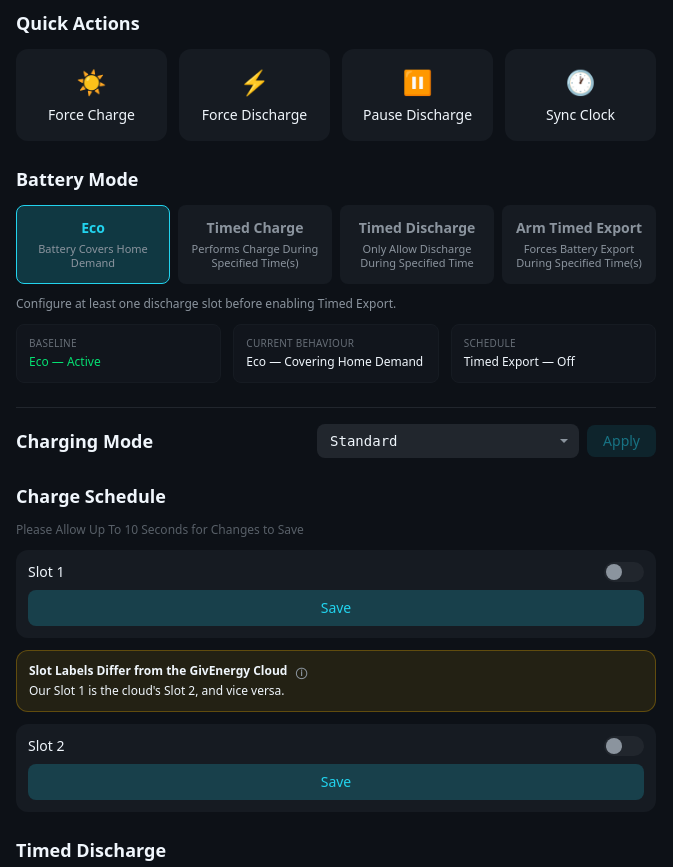
<ControlPage/> — battery mode toggles › shows the error and frees the Eco button when the request is rejected
This screenshot has width=673, height=867.
Click the button "Eco Battery Covers Home Demand": [93, 244] box x1=16 y1=204 x2=170 y2=284
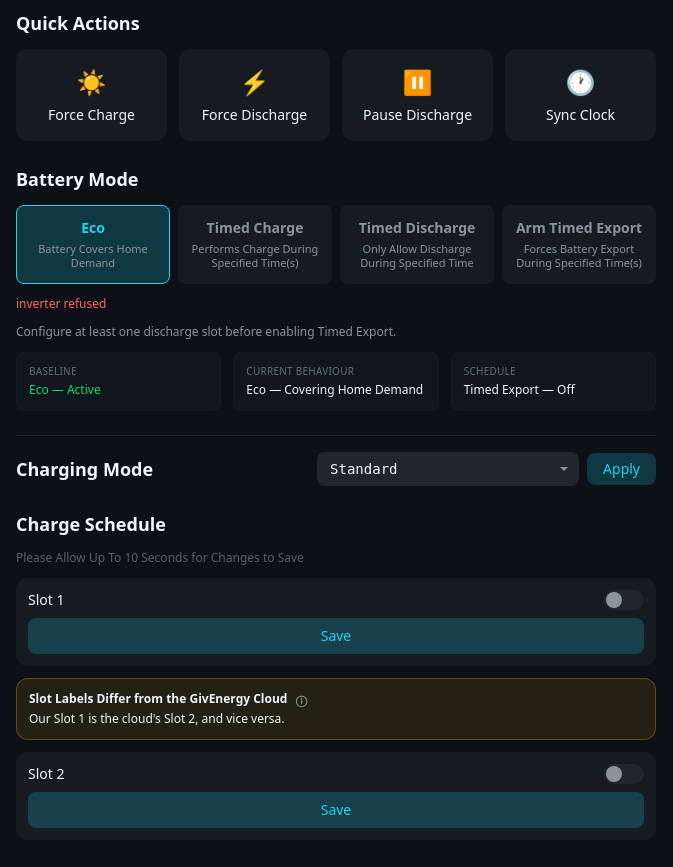
Check: the message "inverter refused" is shown, box x1=16 y1=295 x2=106 y2=312
